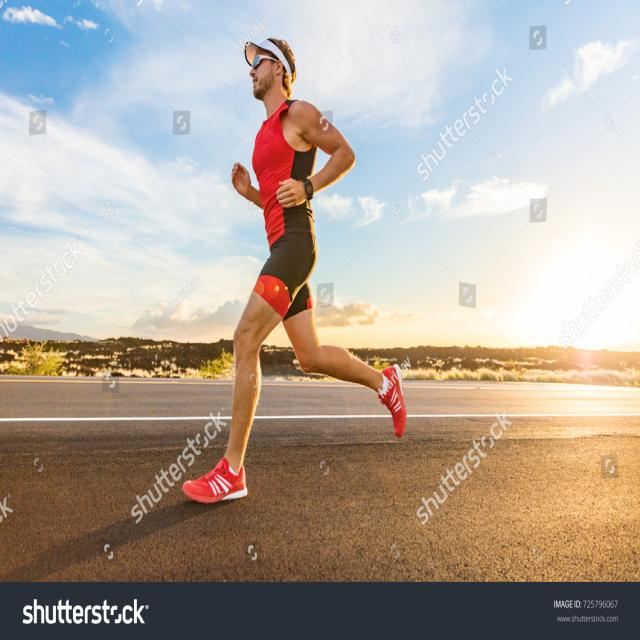running: (178, 35, 412, 511)
